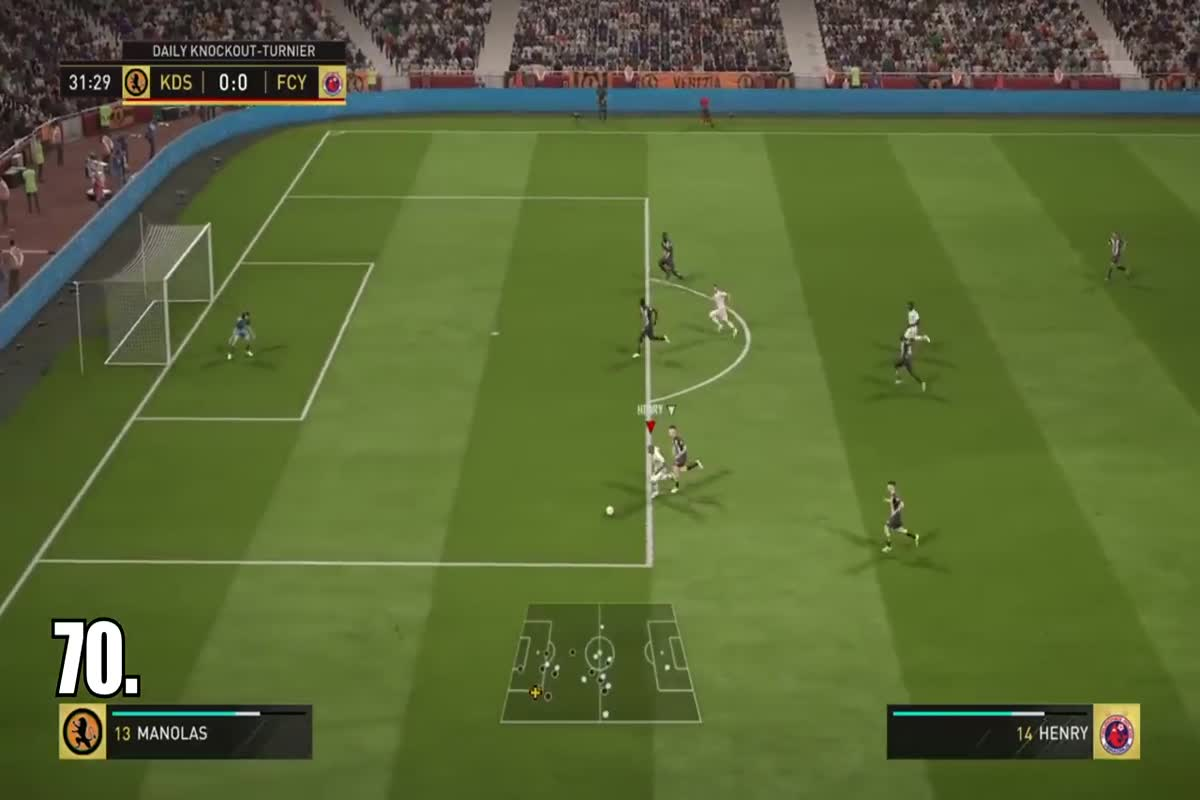ball: (584, 495, 631, 527)
